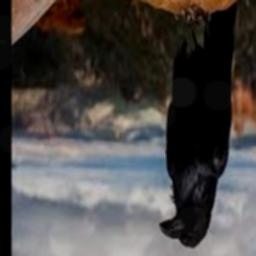Crow: (159, 3, 237, 249)
